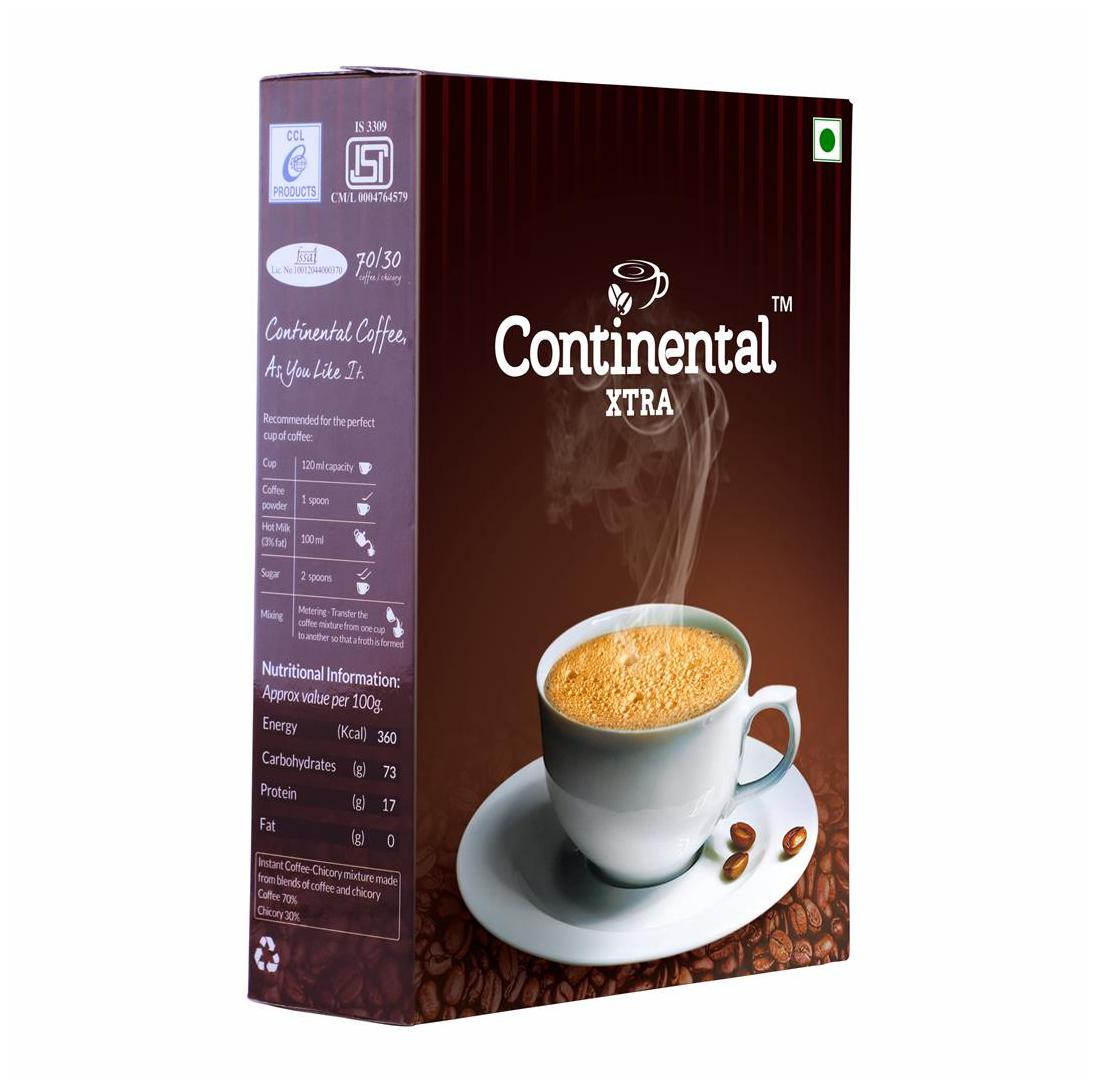fssai: (293, 248, 318, 264)
